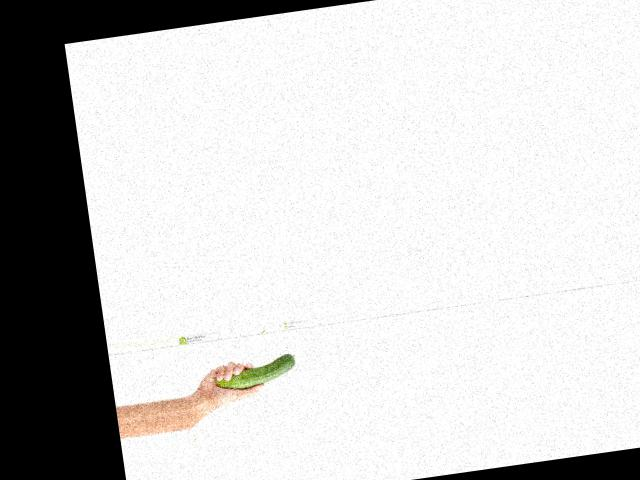cucumber: (213, 352, 298, 390)
